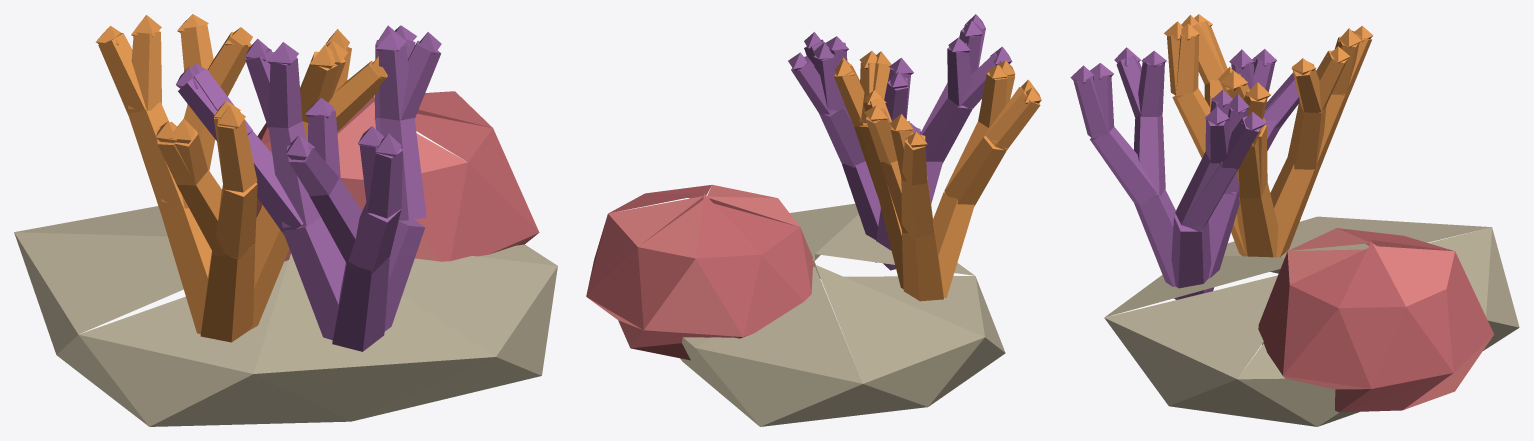
File: coral.glb
3 renders of one model, left to right at view 1: azimuth 30°, elevation 25°; view 2: azimuth 150°, elevation 25°; view 3: azimuth 270°, elevation 25°, orthographic. The views are drawn at different scales.
Parts seen in each view (by area): view 1: coral2; view 2: coral2; view 3: coral2.
Part boxes in pixels (x1,y1,x2,y2): coral2: (14,14,557,426); coral2: (586,14,1041,426); coral2: (1070,14,1519,426).
Size of the model in its own units: 0.9505 by 0.6753 by 0.9969.
